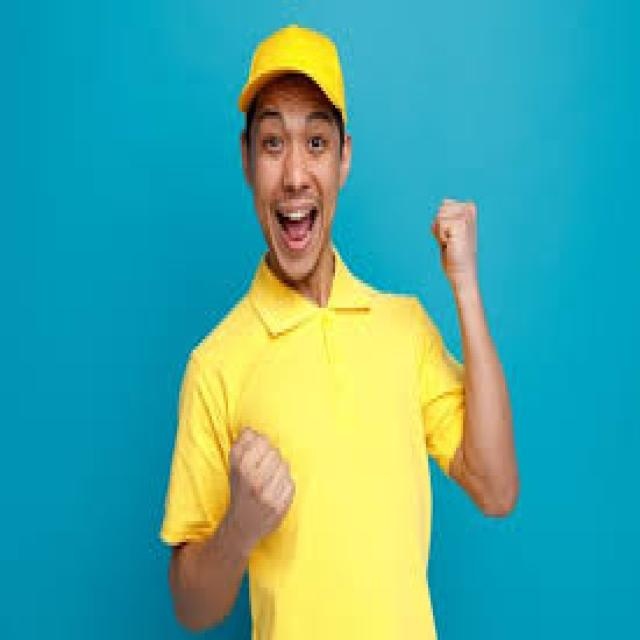3_gorra: (237, 28, 356, 116)
